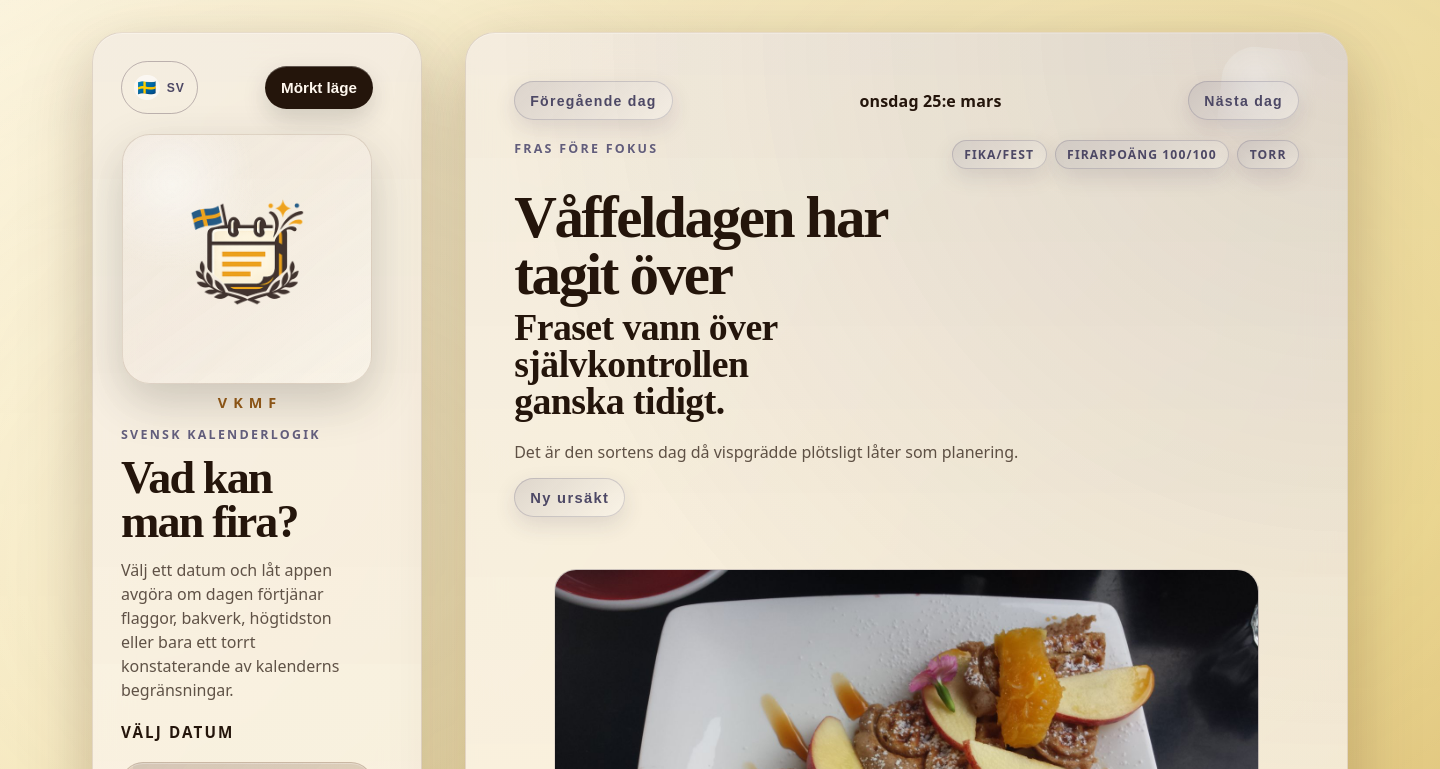
Test case: steps between days from the center navigation buttons
Expected: the heading "Våffeldagen har tagit över" is shown, [514,189,942,420]
Click the button "Föregående dag": (593, 100) [514,81,673,120]
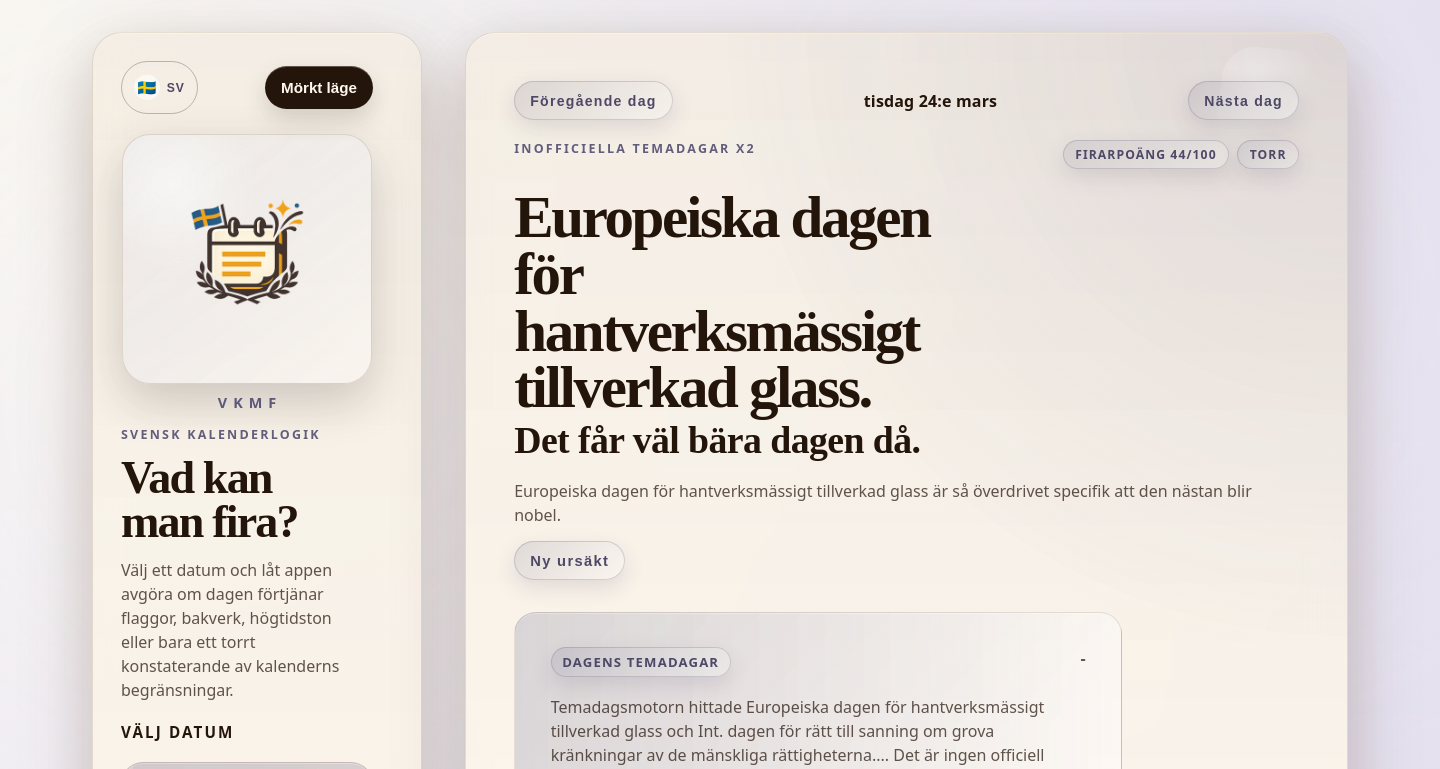
Now the heading "Våffeldagen har tagit över" is gone
Click the button "Nästa dag": (1244, 100) [1188,81,1299,120]
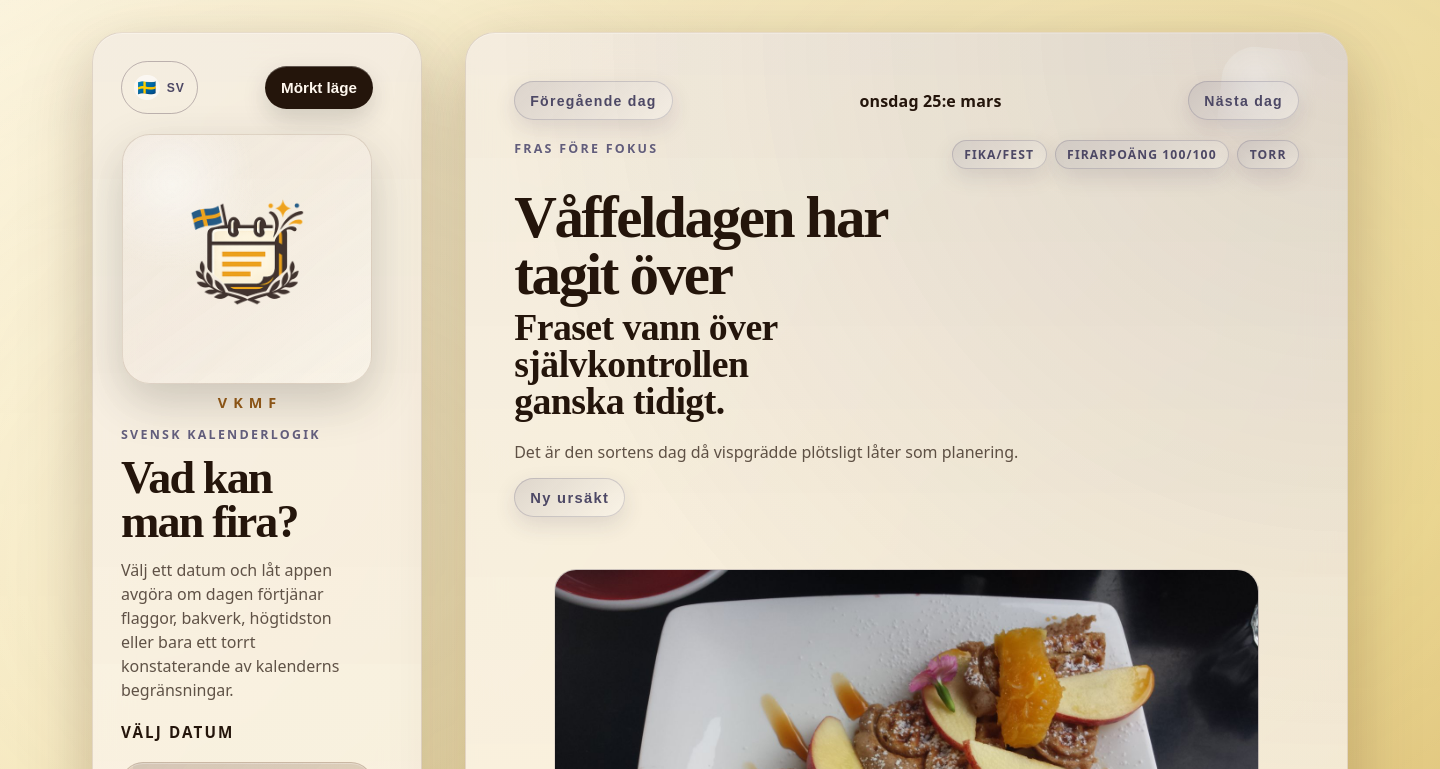
Now the heading "Våffeldagen har tagit över" is shown, box [514,189,942,420]
